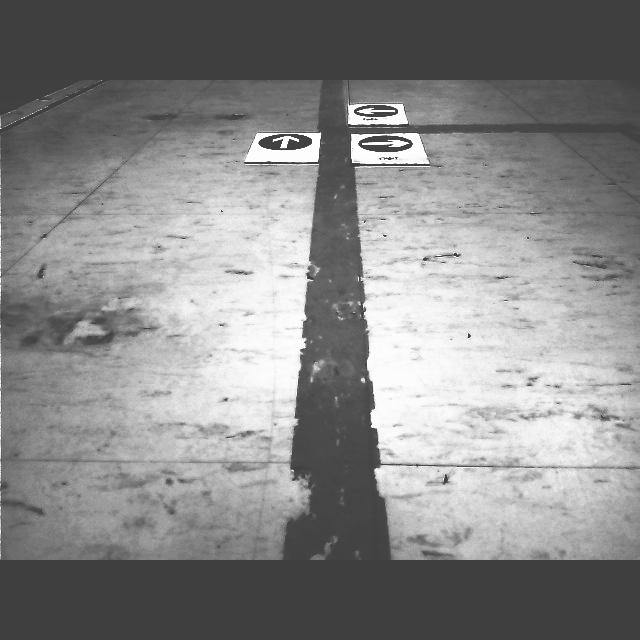GO FORWARD: (260, 134, 312, 150)
TURN LEFT: (355, 104, 398, 117)
TURN RIGHT: (358, 135, 412, 152)
